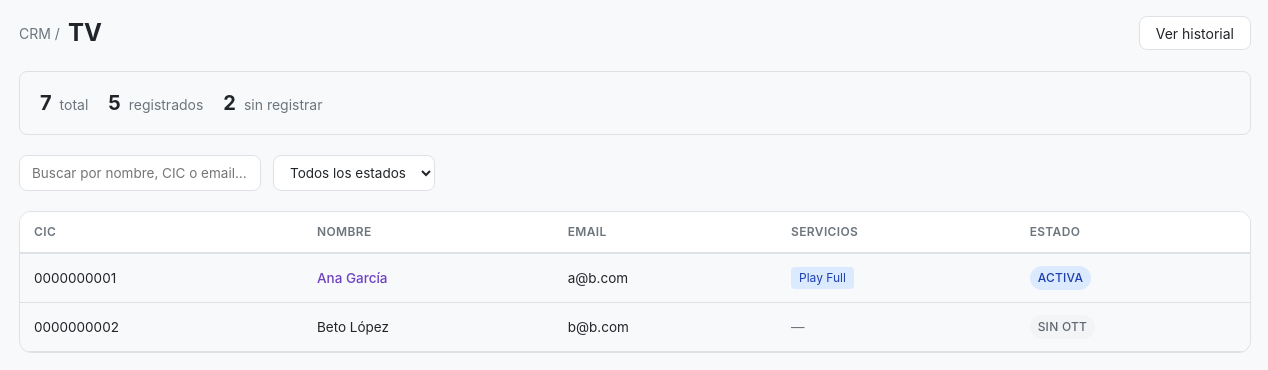
GigaredAccountsPage › filters by EMAIL substring (case-insensitive) after debounce
The width and height of the screenshot is (1268, 370).
Step 1. Type "a@b.com" into the field with placeholder "Buscar por nombre, CIC o email…" → (140, 173), box [19, 155, 261, 191]
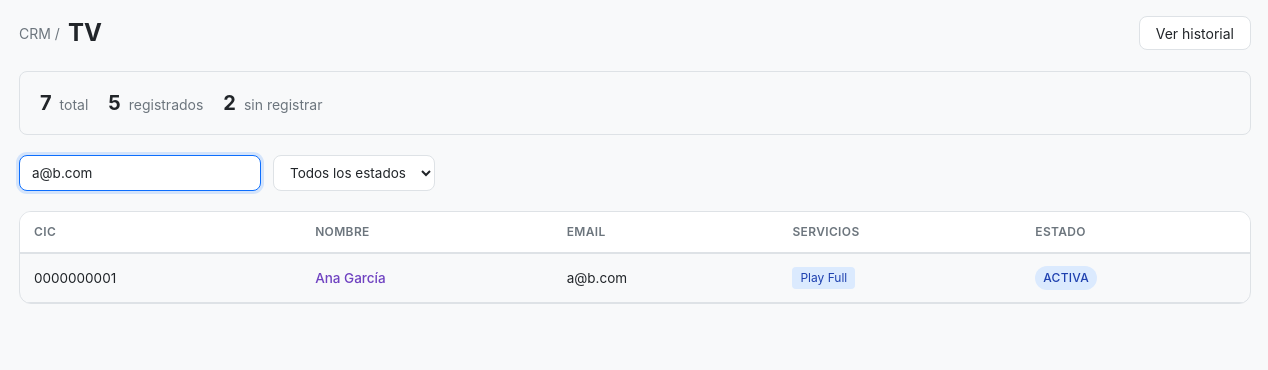
Expected: the text "a@b.com" is shown, [553, 253, 778, 302]
Now the text "b@b.com" is gone
